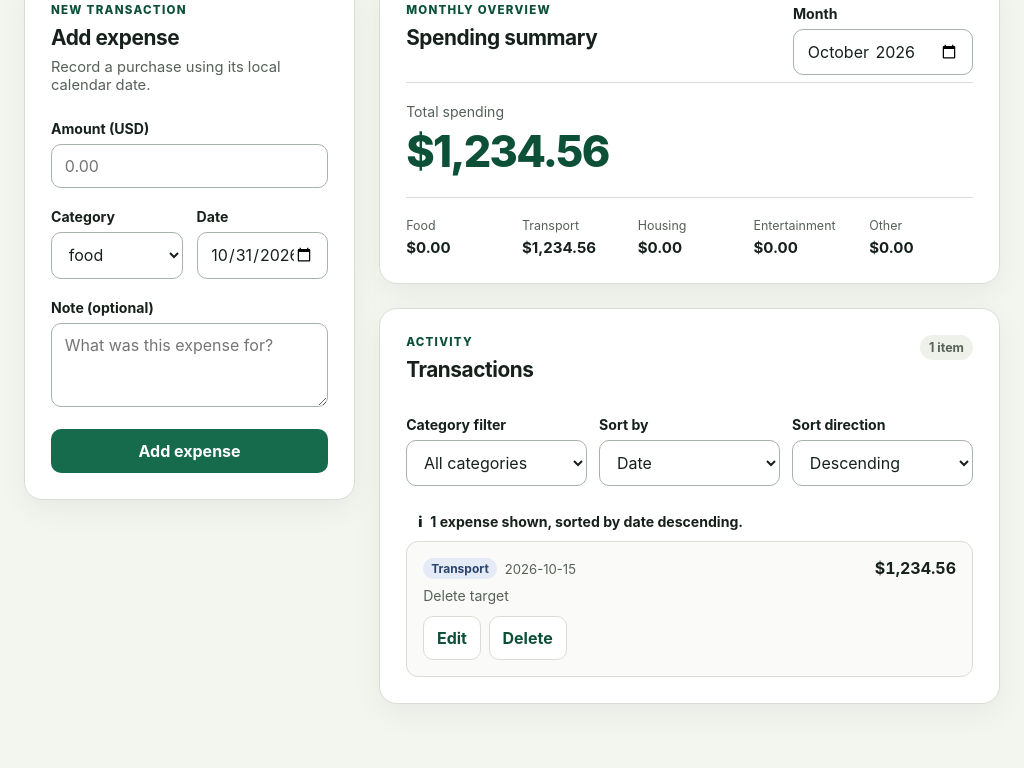
it: delete confirmation › DELETE-003: focuses Add expense when no unfiltered result remains
The width and height of the screenshot is (1024, 768).
(page scrolled)
Click the button with aria-label "Delete expense" at (528, 638), box [489,616,566,660]
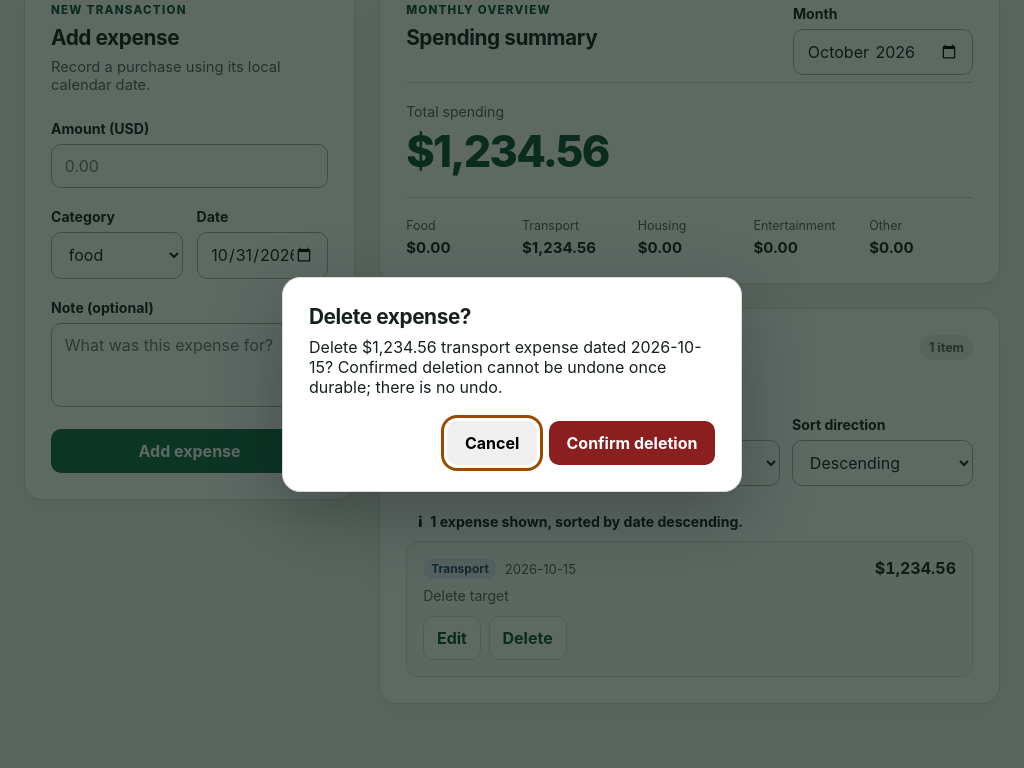
Click the button "Confirm deletion" at (632, 442), box [549,420,715,464]
(page scrolled)
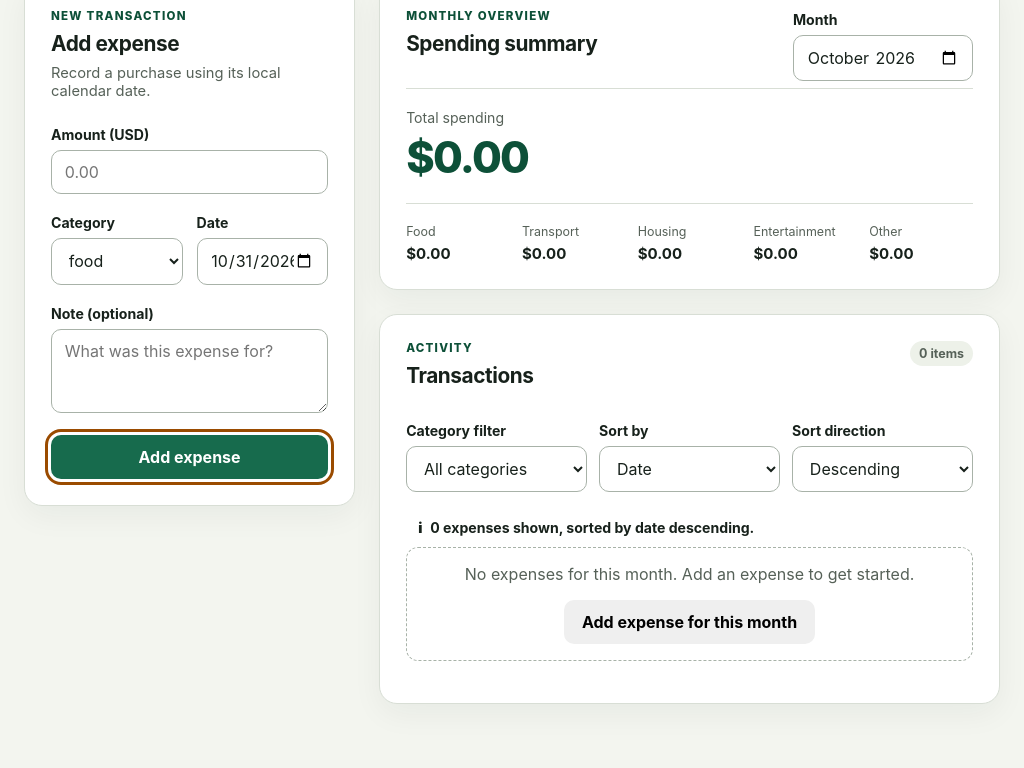
expect the text named "Monthly total" reads "$0.00": met, box [406,131,528,183]
expect the text "undo" is gone: met
